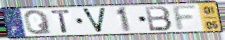1: (116, 5, 134, 34)
B: (143, 6, 174, 33)
F: (171, 4, 199, 32)
Q: (22, 9, 54, 36)
T: (51, 9, 73, 34)
V: (80, 7, 108, 34)
